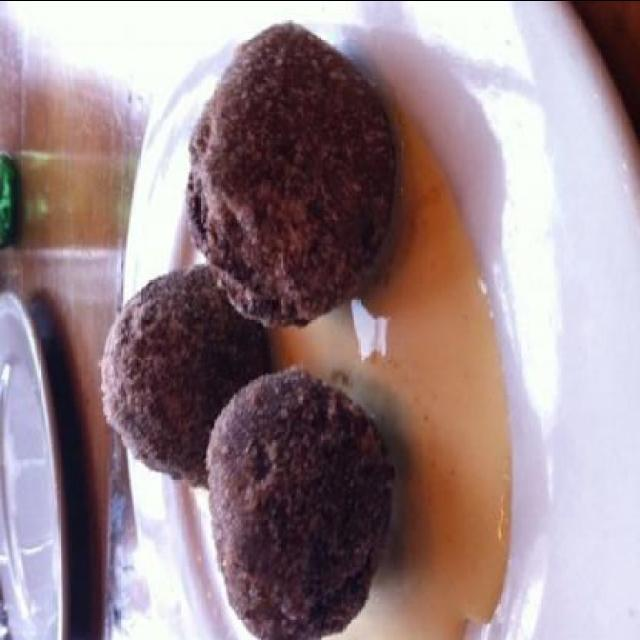Donuts: (76, 16, 422, 638)
